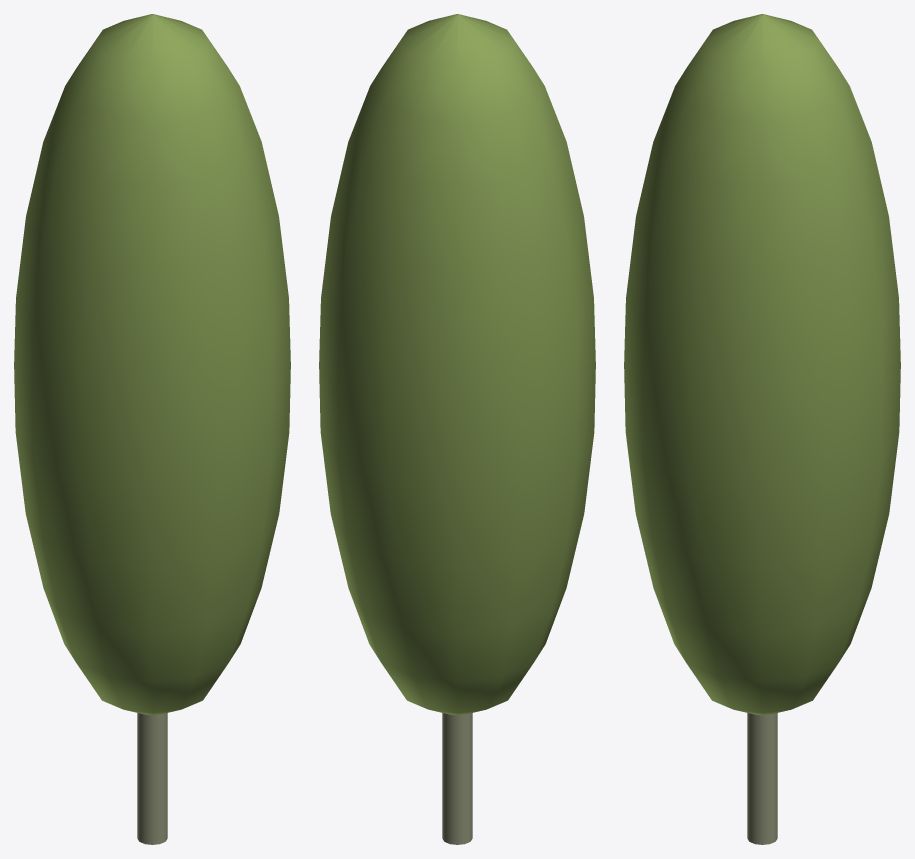
The model's file is European_Larch_Analytical_0.obj.
3 renders of one model, left to right at view 1: azimuth 30°, elevation 25°; view 2: azimuth 150°, elevation 25°; view 3: azimuth 270°, elevation 25°, orthographic.
Parts seen in each view (by area): view 1: AnalyticalCrown, AnalyticalTrunk; view 2: AnalyticalCrown, AnalyticalTrunk; view 3: AnalyticalCrown, AnalyticalTrunk.
Part boxes in pixels (x1=…): AnalyticalCrown: x1=14, y1=14, x2=290, y2=715; AnalyticalTrunk: x1=137, y1=713, x2=167, y2=844; AnalyticalCrown: x1=319, y1=14, x2=595, y2=715; AnalyticalTrunk: x1=442, y1=713, x2=472, y2=844; AnalyticalCrown: x1=624, y1=14, x2=900, y2=715; AnalyticalTrunk: x1=747, y1=713, x2=777, y2=844.
Bounding box in the file's own units: 9.14 × 30 × 9.14.
